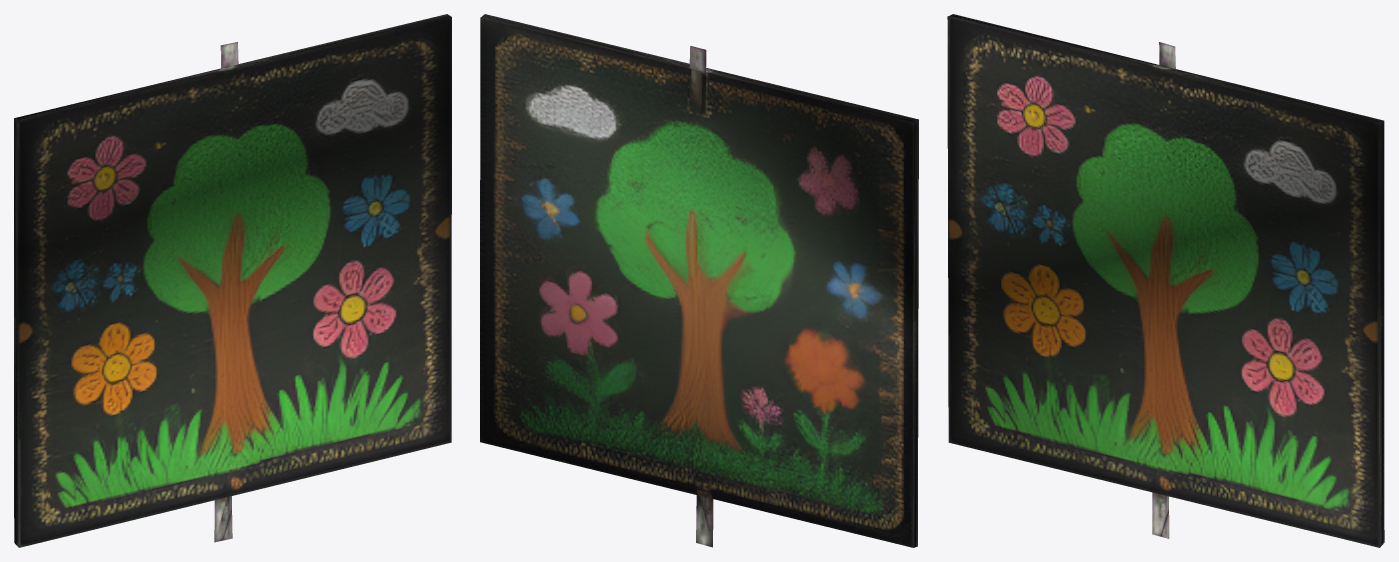
The model's file is all  kids_paintings4.fbx.
3 views of the same model, side by side, from view 1: azimuth 30°, elevation 25°; view 2: azimuth 150°, elevation 25°; view 3: azimuth 330°, elevation 25° (orthographic).
Visible parts, largest first — view 1: all kids_paintings4; view 2: all kids_paintings4; view 3: all kids_paintings4.
Boxes of the visible parts, box(x1,y1,x2,y2) form: all kids_paintings4: box(14, 14, 451, 547); all kids_paintings4: box(480, 14, 918, 547); all kids_paintings4: box(947, 14, 1384, 547).
Bounding box in the file's own units: 136 × 149 × 2.82.
1 material, 1 textured.
